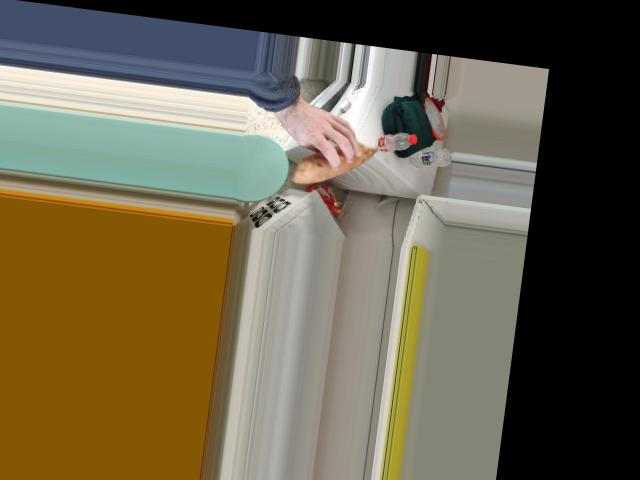sweet_potato: (305, 124, 374, 190)
